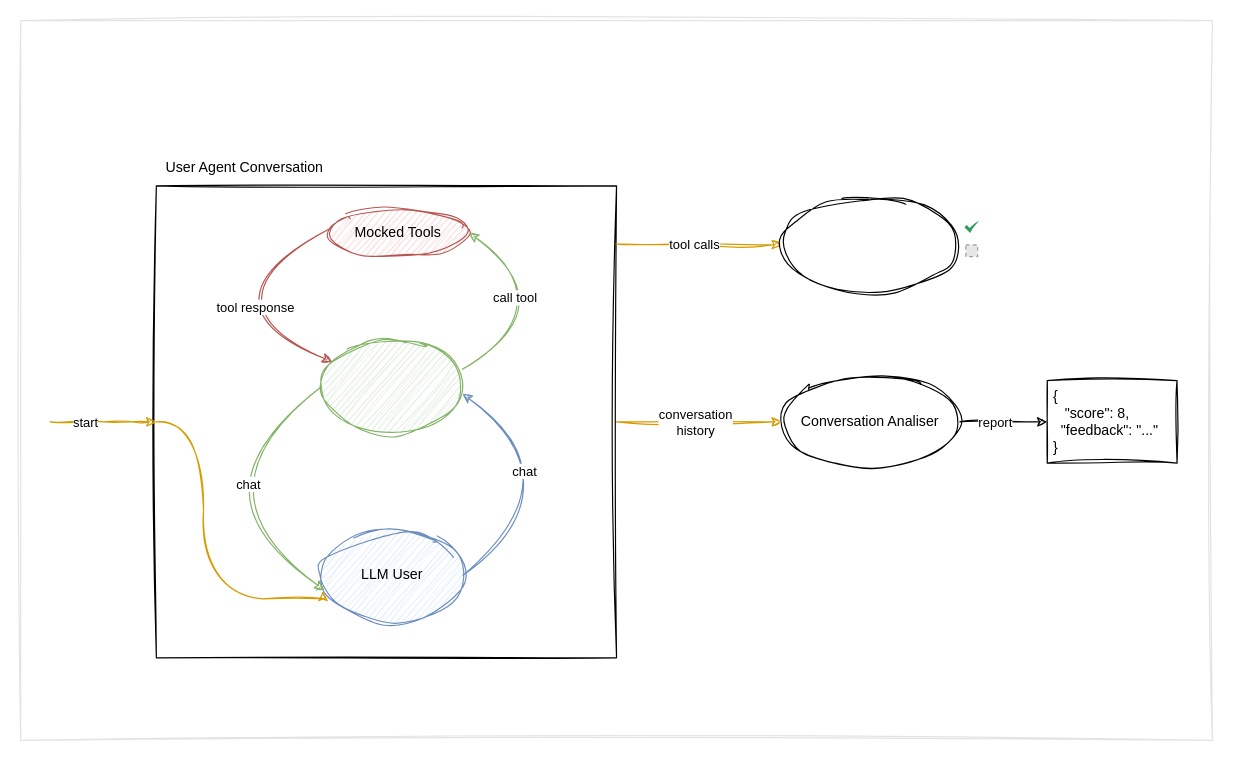
The diagram is 1233 pixels wide and 761 high, and some of its shapes have lost their labels. Grey dashed boxes stand in for pictures. Here are the shapes that lost their labels. From the top down, the centre of each, then its label:
(870,244): Tool Calls expectations
(391,386): Assistant
